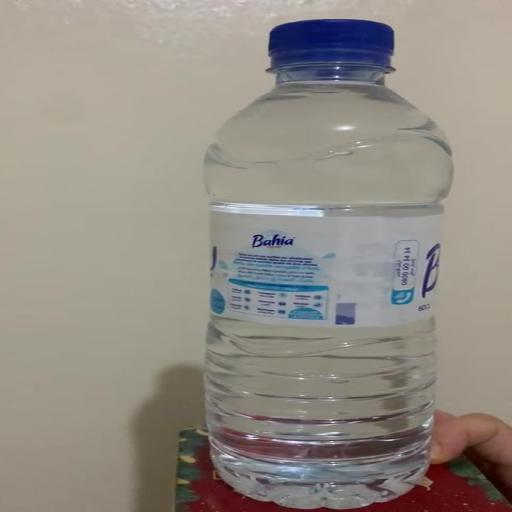bouteille conformite: (205, 126, 410, 508), (271, 20, 393, 75)
